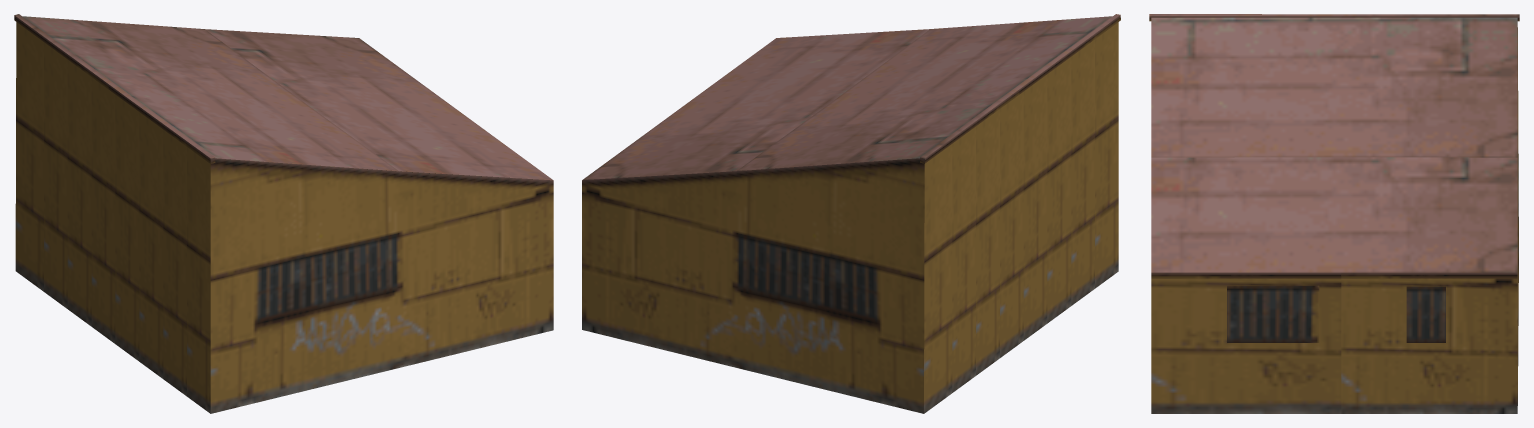
The model's file is barrack04.glb.
The picture shows the model from 3 angles, left to right: view 1: azimuth 30°, elevation 25°; view 2: azimuth 150°, elevation 25°; view 3: azimuth 270°, elevation 25°; orthographic projection. The views are drawn at different scales.
Visible parts, largest first — view 1: barrack04_elements_0; view 2: barrack04_elements_0; view 3: barrack04_elements_0.
Boxes of the visible parts, <box> form: barrack04_elements_0: <box>14,14,553,413</box>; barrack04_elements_0: <box>582,14,1120,413</box>; barrack04_elements_0: <box>1149,14,1519,413</box>.
Size of the model in its own units: 8.7 by 6.19 by 8.59.
Materials: 1 (1 with a texture image).
